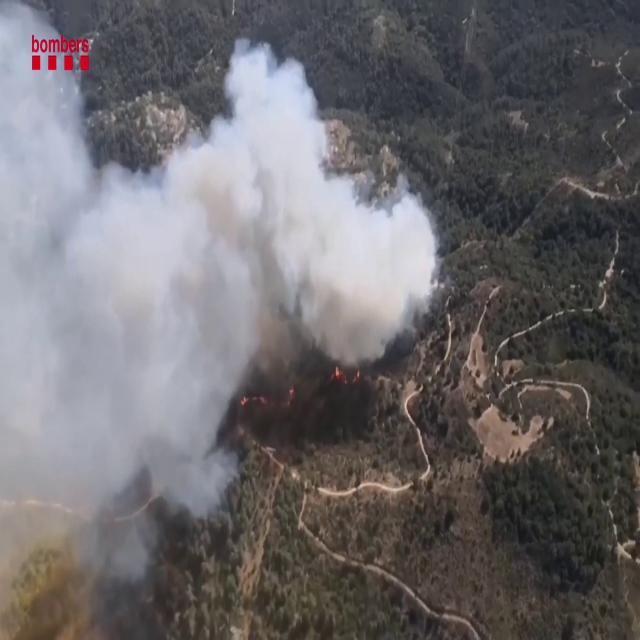Smoke: (0, 28, 436, 614)
